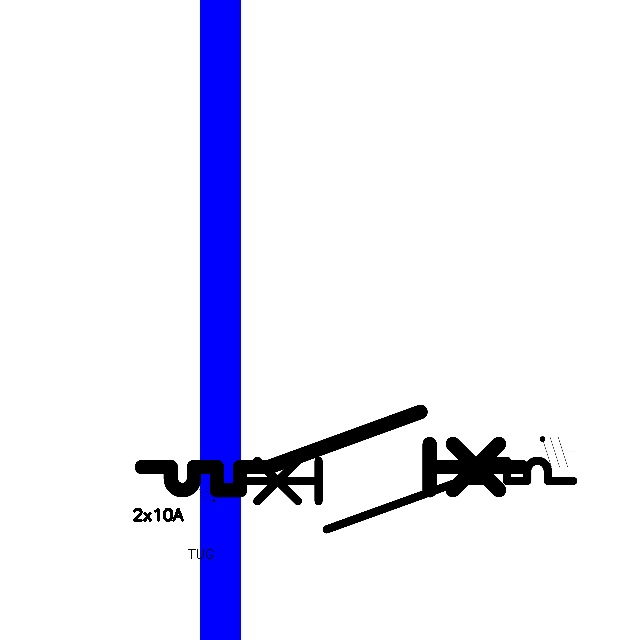interruptor_termomagnetico: (132, 402, 531, 500), (228, 452, 582, 538)
